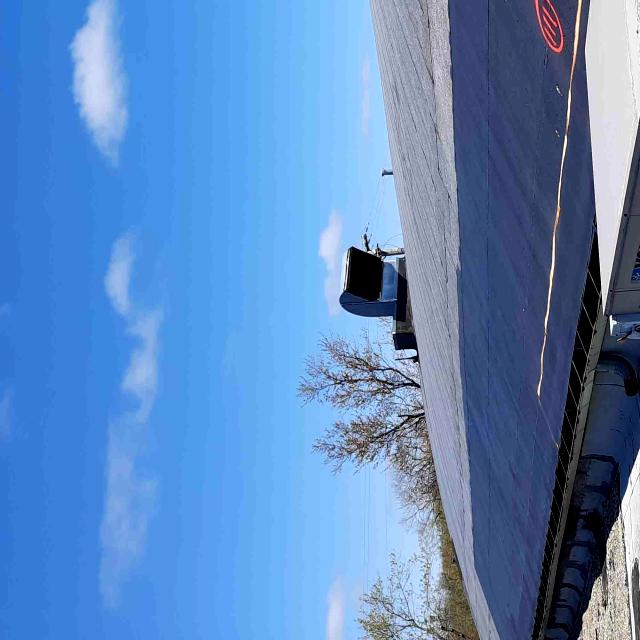RTU: (576, 0, 640, 325)
